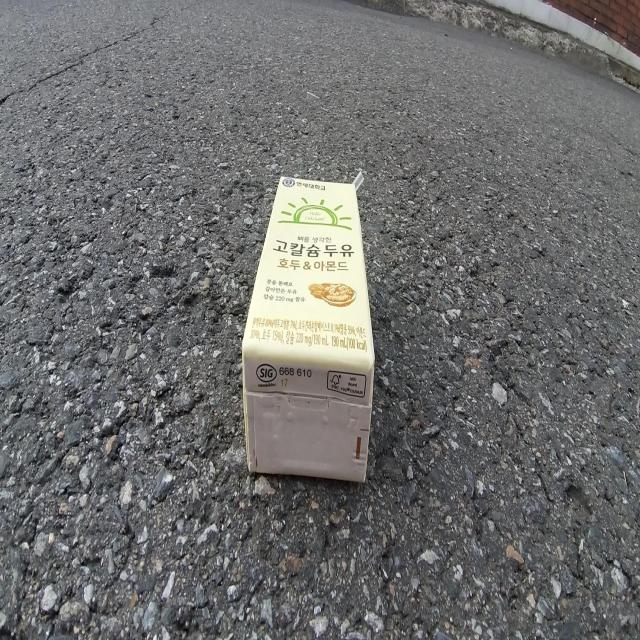paperpack: (242, 175, 375, 481)
